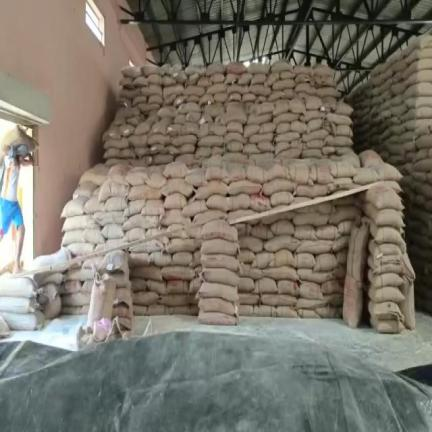Zone-Counting: (0, 125, 36, 271)
